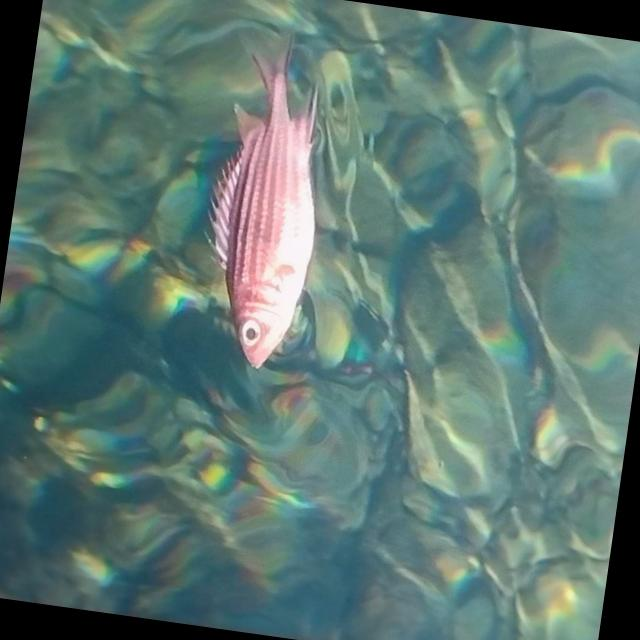Asker Baligi: (184, 21, 346, 376)
